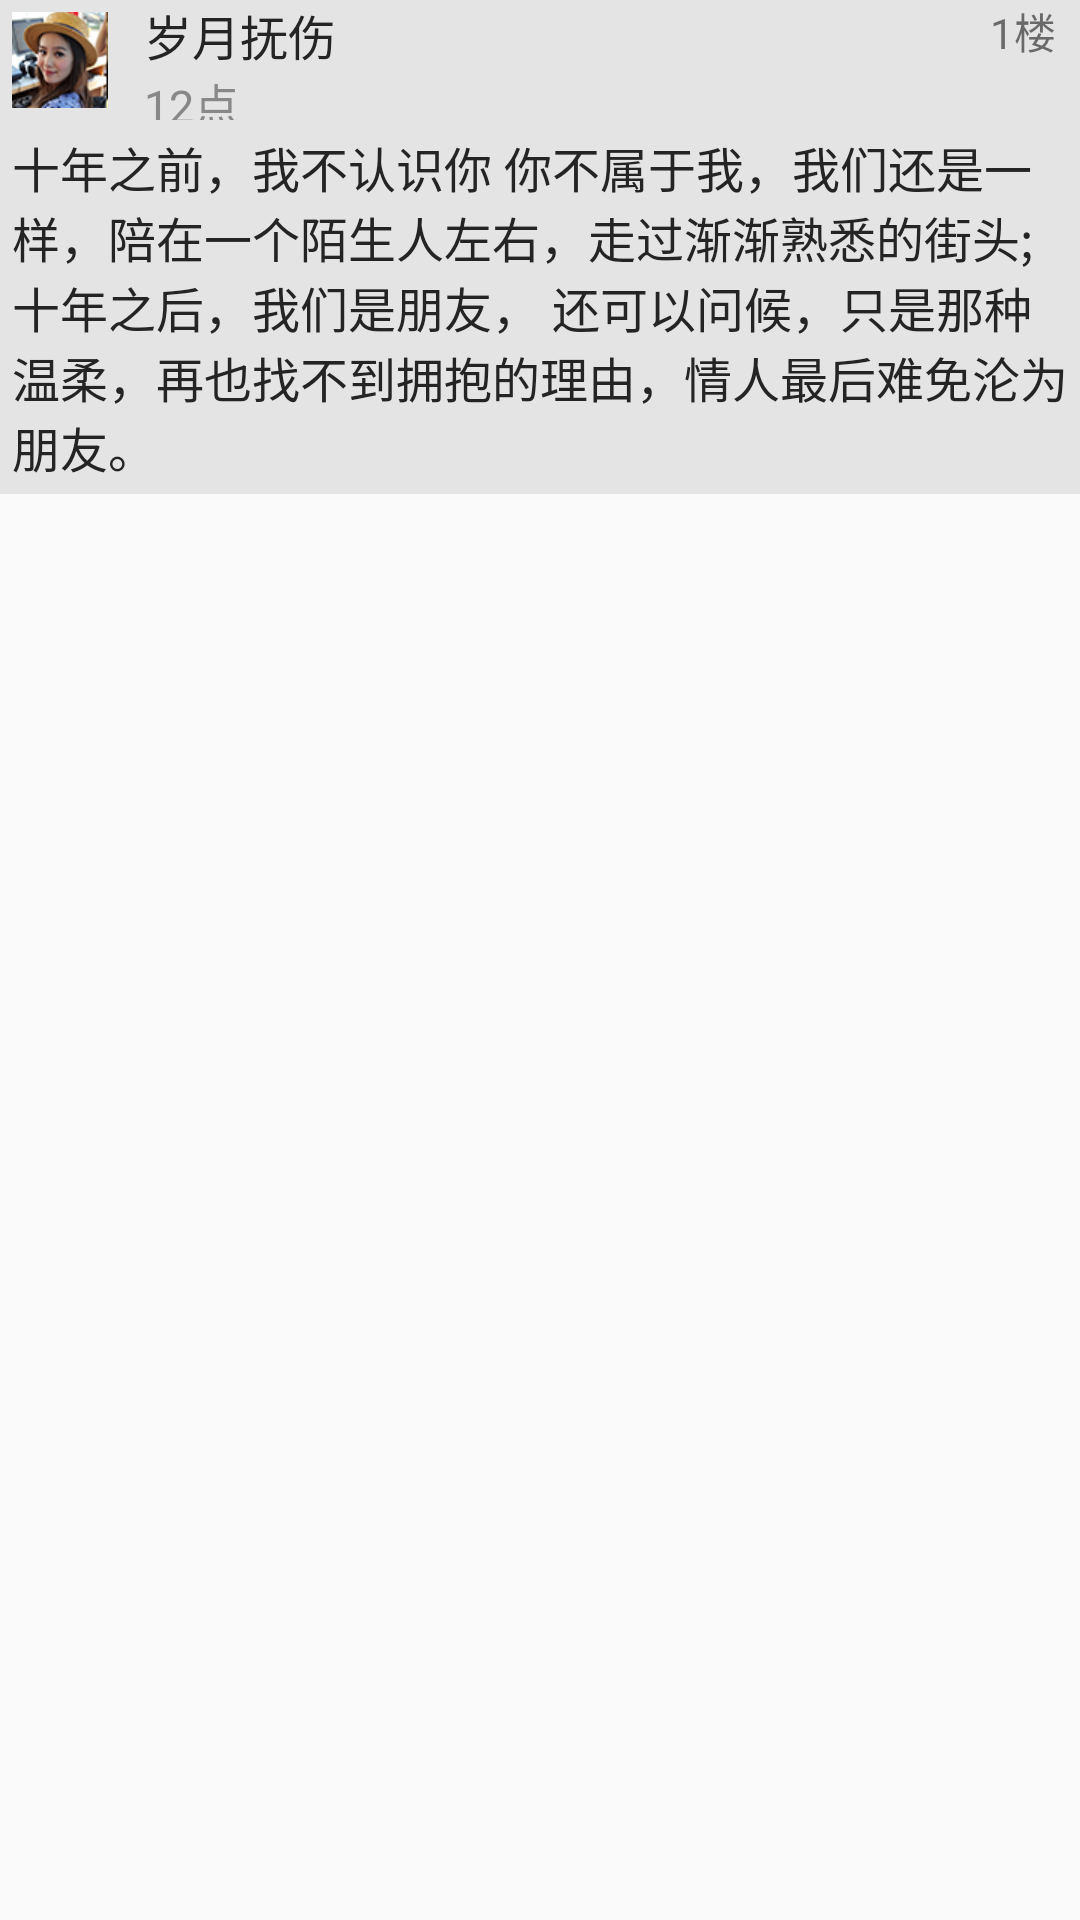

Named icons in this screenshot (1080px×1920px) and their bounding boxes, (x1, y1, x2, y2):
girl: (12, 12, 108, 108)
